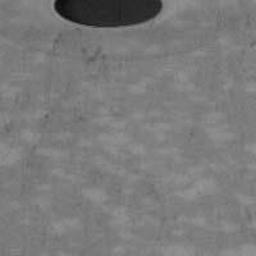Punching: (51, 0, 163, 29)
